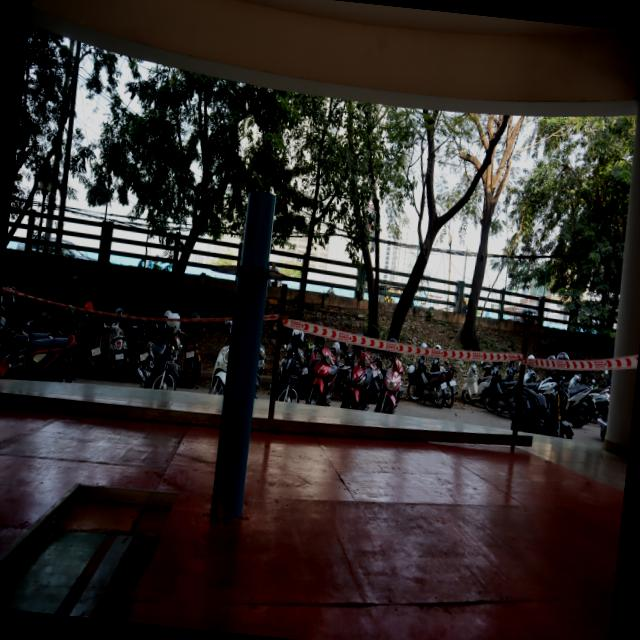pole: (190, 180, 302, 397)
